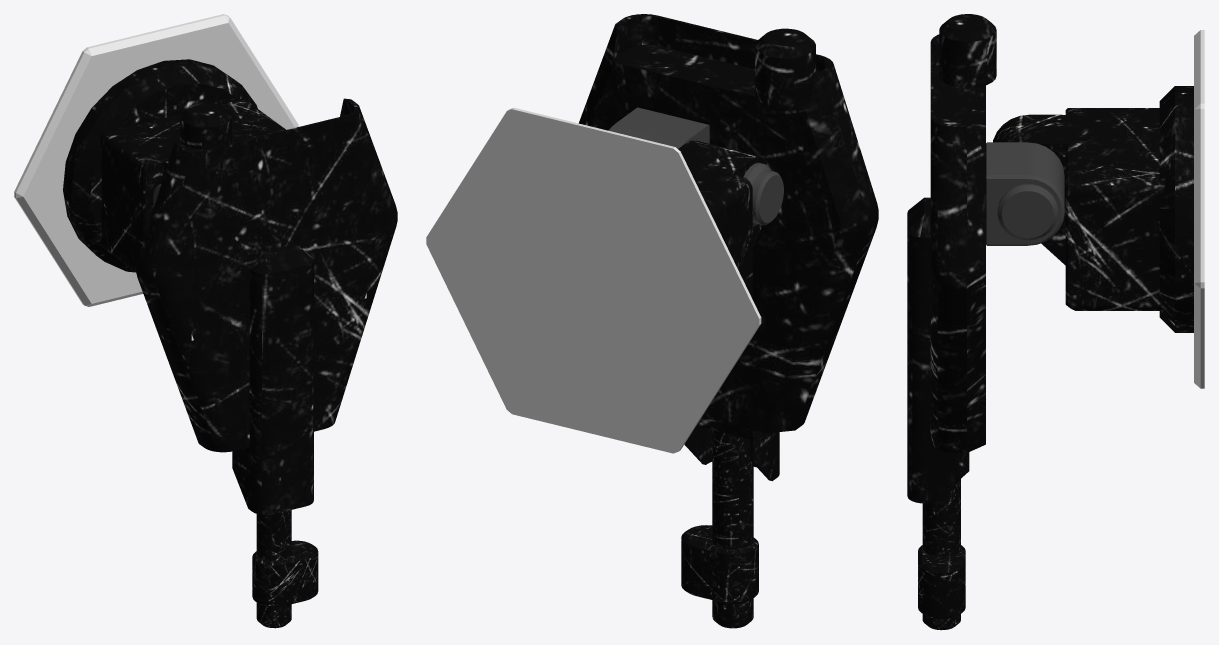
Rendered from turret_1.glb.
3 views of the same model, side by side, from view 1: azimuth 30°, elevation 25°; view 2: azimuth 150°, elevation 25°; view 3: azimuth 270°, elevation 25° (orthographic). The views are drawn at different scales.
Visible parts, largest first — view 1: gun_body, gun_yaw, gun_plate, gun_barrel; view 2: gun_plate, gun_body, gun_barrel, gun_yaw; view 3: gun_body, gun_yaw, gun_barrel, gun_plate.
Part boxes in pixels (x1=…): gun_body: x1=136, y1=98, x2=397, y2=515; gun_yaw: x1=63, y1=59, x2=285, y2=272; gun_plate: x1=14, y1=14, x2=298, y2=306; gun_barrel: x1=252, y1=510, x2=318, y2=628; gun_plate: x1=426, y1=107, x2=761, y2=453; gun_body: x1=578, y1=14, x2=878, y2=481; gun_barrel: x1=681, y1=430, x2=758, y2=628; gun_yaw: x1=678, y1=140, x2=783, y2=298; gun_body: x1=907, y1=14, x2=1064, y2=503; gun_yaw: x1=993, y1=86, x2=1193, y2=332; gun_barrel: x1=918, y1=479, x2=965, y2=630; gun_plate: x1=1194, y1=30, x2=1204, y2=388.
Bounding box in the file's own units: 0.482 × 0.8439 × 0.398.
Materials: 5 (2 with a texture image).
